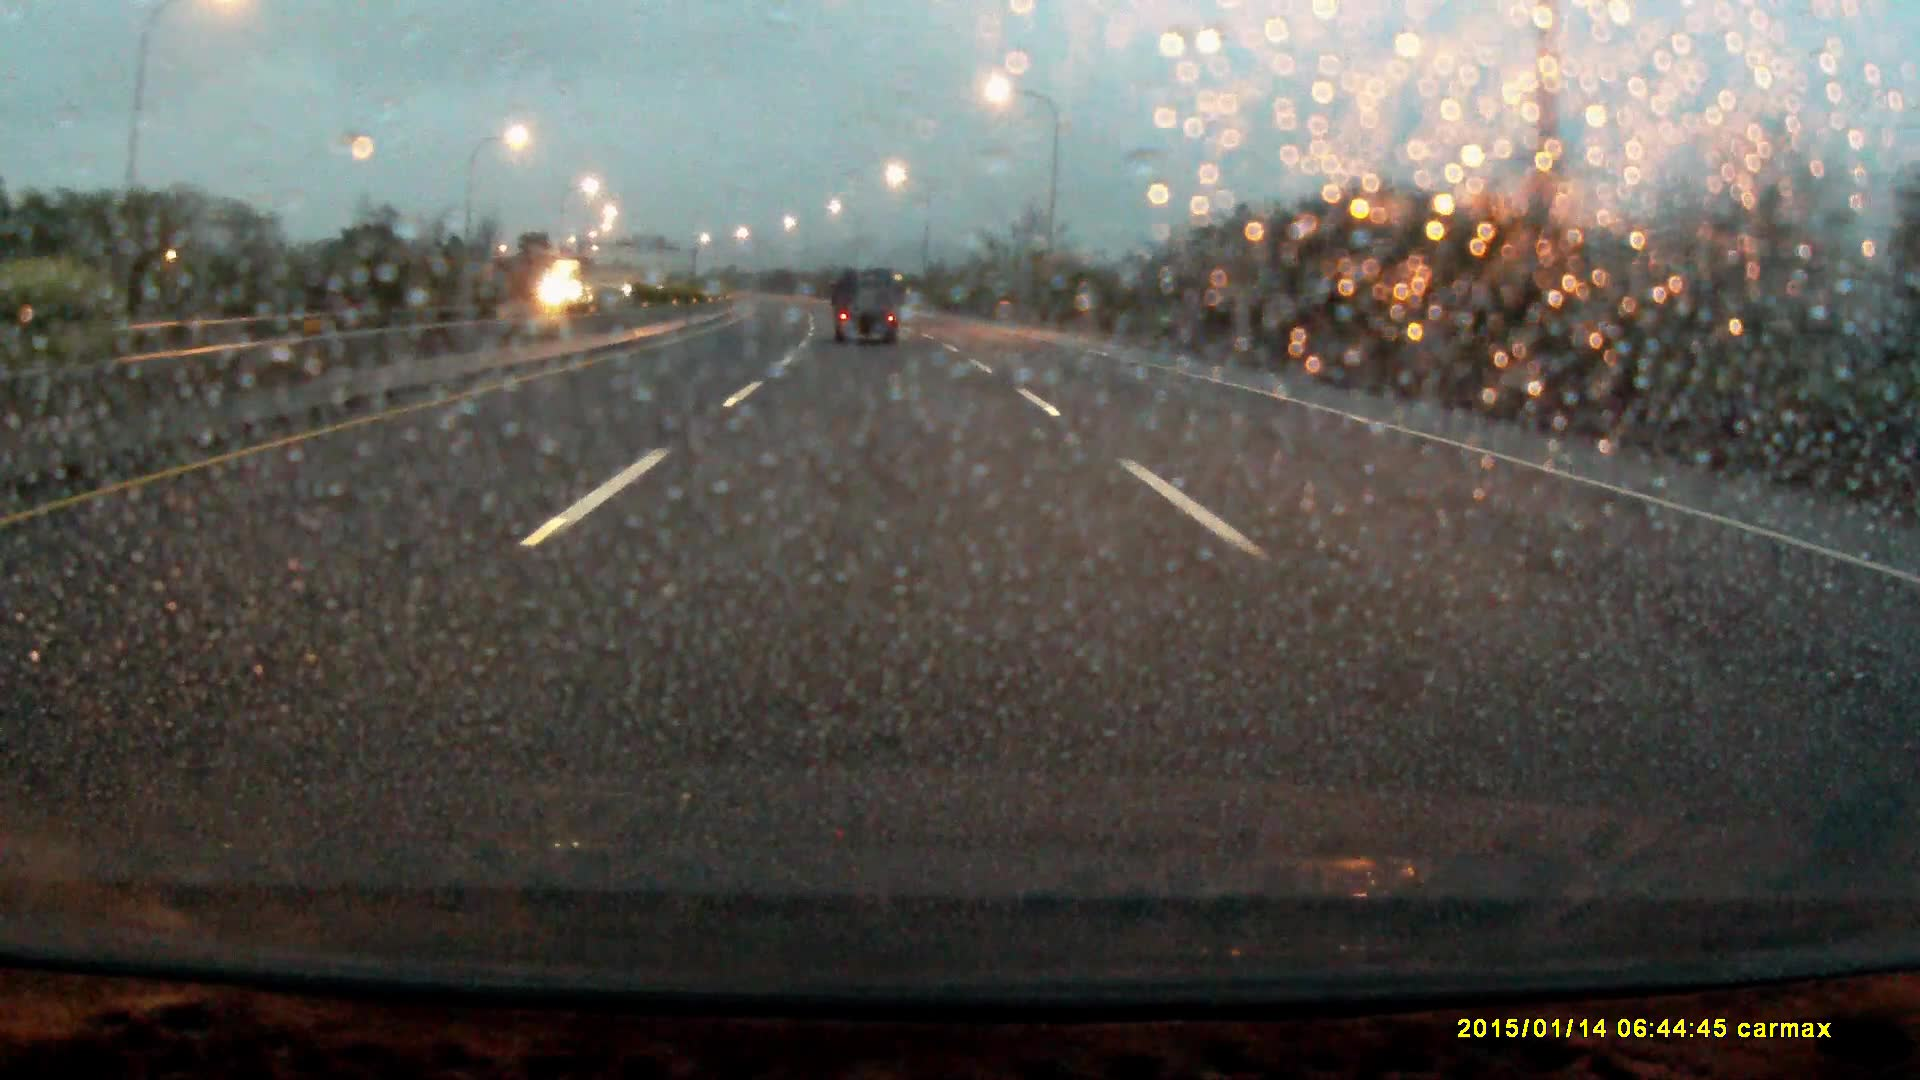vehicle: (833, 273, 903, 352), (549, 262, 621, 322)
